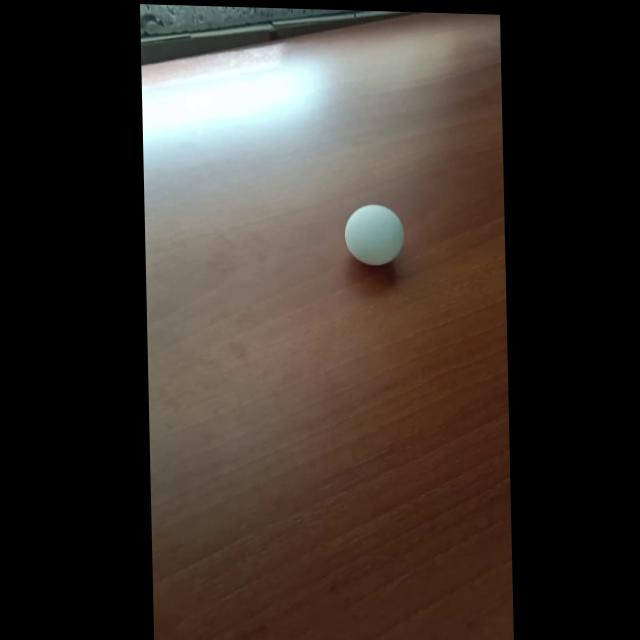white ball: (343, 203, 405, 267)
